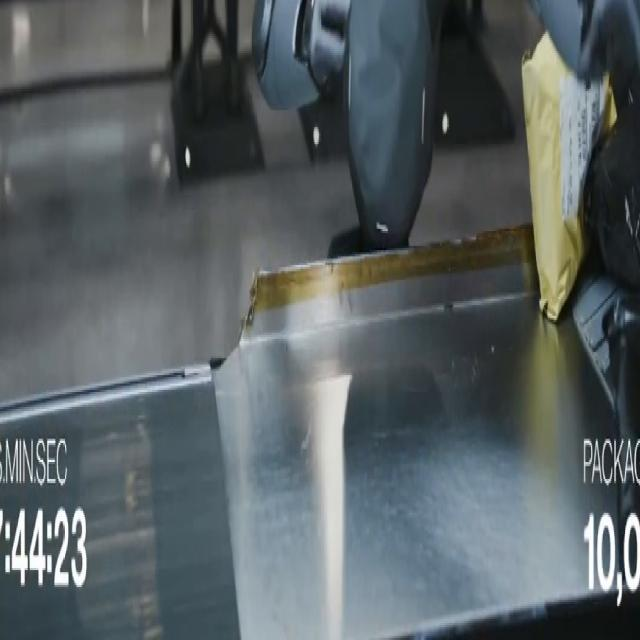package: (522, 34, 615, 319), (584, 102, 639, 290)
